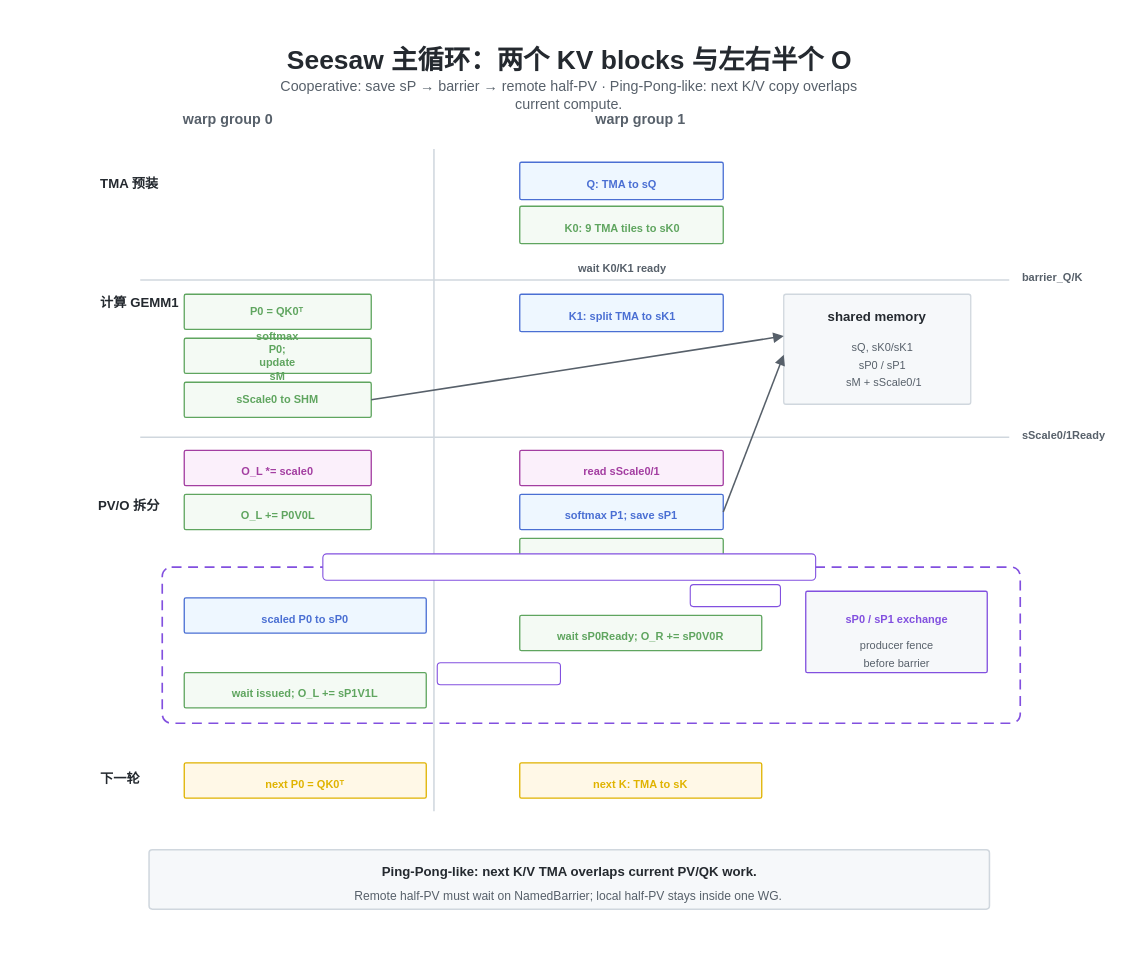
This 1137x961 diagram has some shape labels left out. Here are the shapes that lost their labels. From the top down, the centre of each, then its label:
At point 569,566: "Cooperative: save sP → sync → remote half-PV".
At point 734,595: "sP0Ready".
At point 498,673: "issued barrier".
